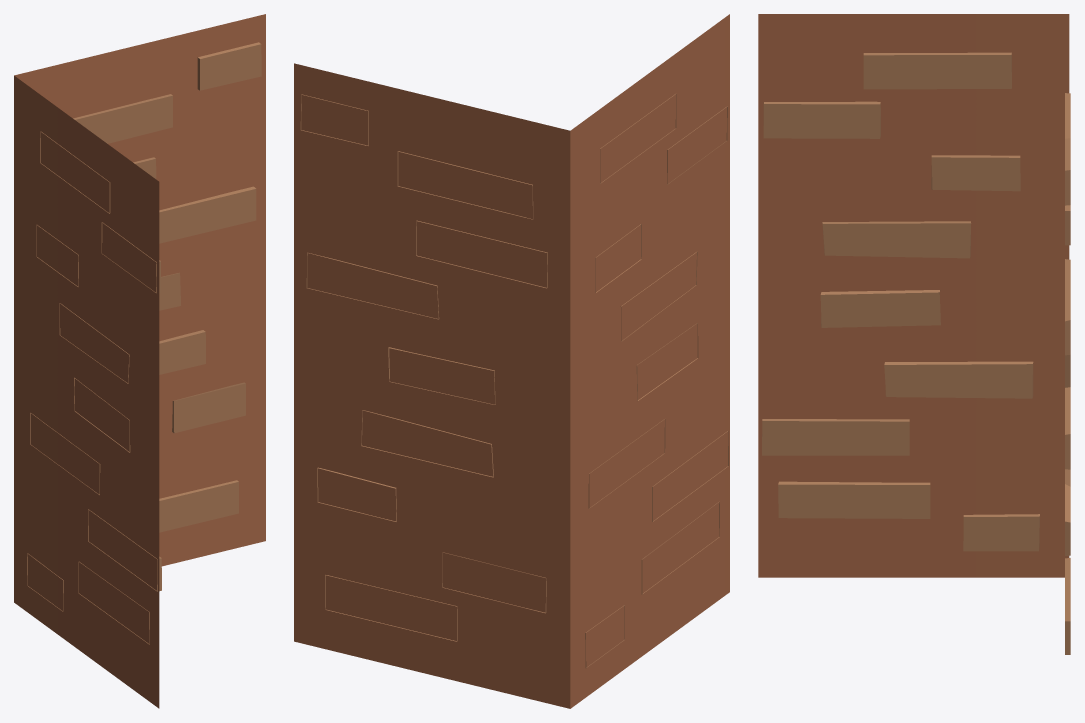
Rendered from Ext-BrickV3Corner-Inv.fbx.
3 renders of one model, left to right at view 1: azimuth 30°, elevation 25°; view 2: azimuth 150°, elevation 25°; view 3: azimuth 270°, elevation 25°, orthographic. The views are drawn at different scales.
Parts seen in each view (by area): view 1: Ext-BrickV3Corner-Inv; view 2: Ext-BrickV3Corner-Inv; view 3: Ext-BrickV3Corner-Inv.
Boxes of the visible parts, <box> form: Ext-BrickV3Corner-Inv: <box>14,14,265,708</box>; Ext-BrickV3Corner-Inv: <box>294,14,729,708</box>; Ext-BrickV3Corner-Inv: <box>758,14,1070,654</box>.
Size of the model in its own units: 100 by 200 by 100.
